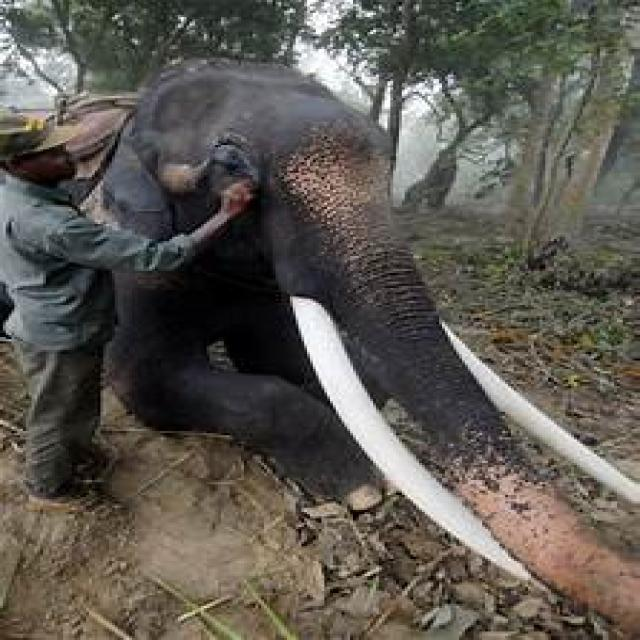elephant: (80, 60, 640, 640)
